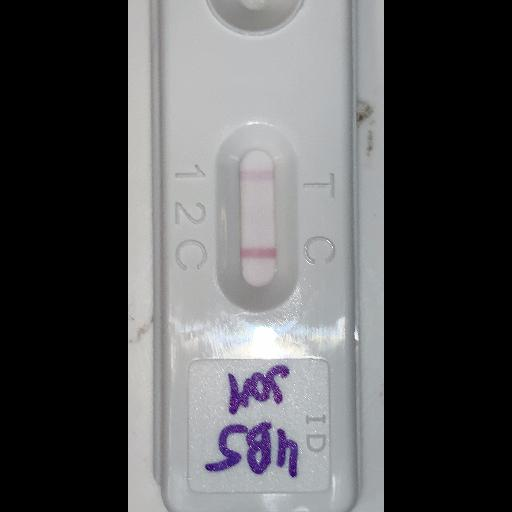Pos: (155, 0, 360, 511)
